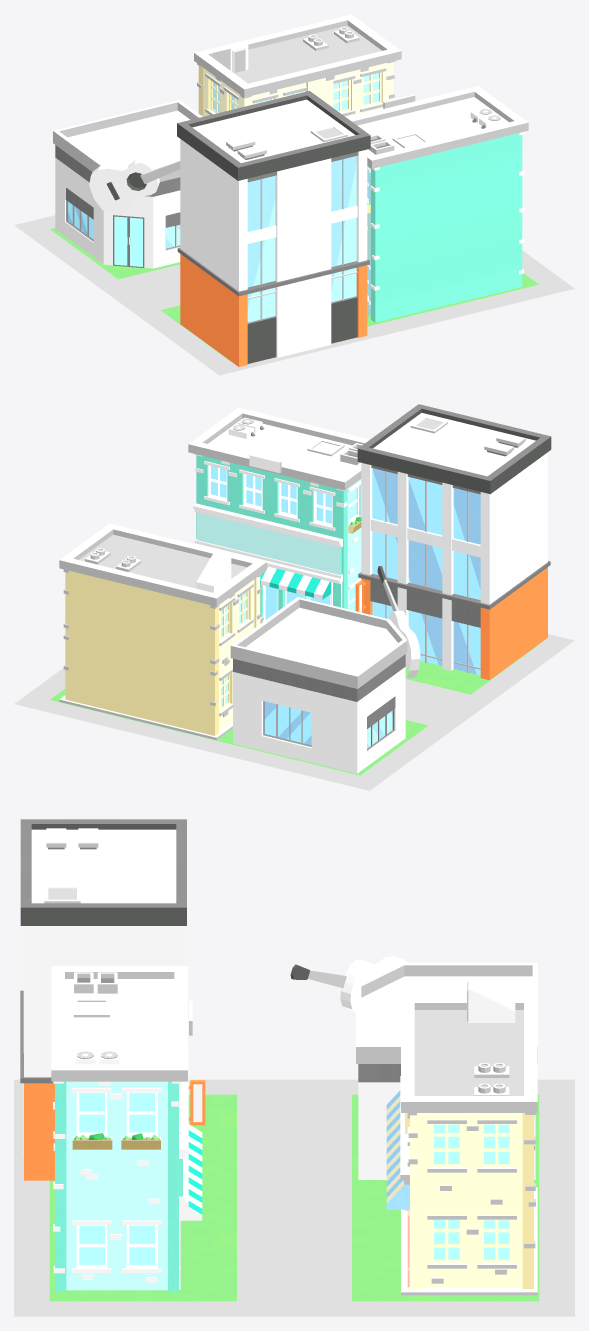
3 views of the same model, one above another, from view 1: azimuth 30°, elevation 25°; view 2: azimuth 150°, elevation 25°; view 3: azimuth 270°, elevation 25° (orthographic). The views are drawn at different scales.
Visible parts, largest first — view 1: hotel.005 (1), dwelling&store.007 (1), services.001 (1), dwelling&store.002 (1), tile_for_home_2x2.002 (2); view 2: hotel.005 (1), dwelling&store.002 (1), dwelling&store.007 (1), services.001 (1), tile_for_home_2x2.002 (2); view 3: tile_for_home_2x2.002 (2), dwelling&store.007 (1), dwelling&store.002 (1), hotel.005 (1), services.001 (1).
Part boxes in pixels (left/top/right/bottom): hotel.005 (1): left=177, top=91, right=370, bottom=366; dwelling&store.007 (1): left=347, top=86, right=528, bottom=322; services.001 (1): left=53, top=100, right=202, bottom=268; dwelling&store.002 (1): left=194, top=14, right=401, bottom=117; tile_for_home_2x2.002 (2): left=14, top=215, right=574, bottom=375; hotel.005 (1): left=355, top=404, right=551, bottom=680; dwelling&store.002 (1): left=59, top=523, right=266, bottom=740; dwelling&store.007 (1): left=188, top=407, right=369, bottom=622; services.001 (1): left=230, top=566, right=420, bottom=773; tile_for_home_2x2.002 (2): left=14, top=634, right=574, bottom=790; tile_for_home_2x2.002 (2): left=14, top=1079, right=574, bottom=1316; dwelling&store.007 (1): left=51, top=966, right=202, bottom=1291; dwelling&store.002 (1): left=386, top=977, right=537, bottom=1295; hotel.005 (1): left=20, top=819, right=205, bottom=1180; services.001 (1): left=290, top=956, right=537, bottom=1179.
Size of the model in its own units: 16 by 8.93 by 16.
1 material, 1 textured.
